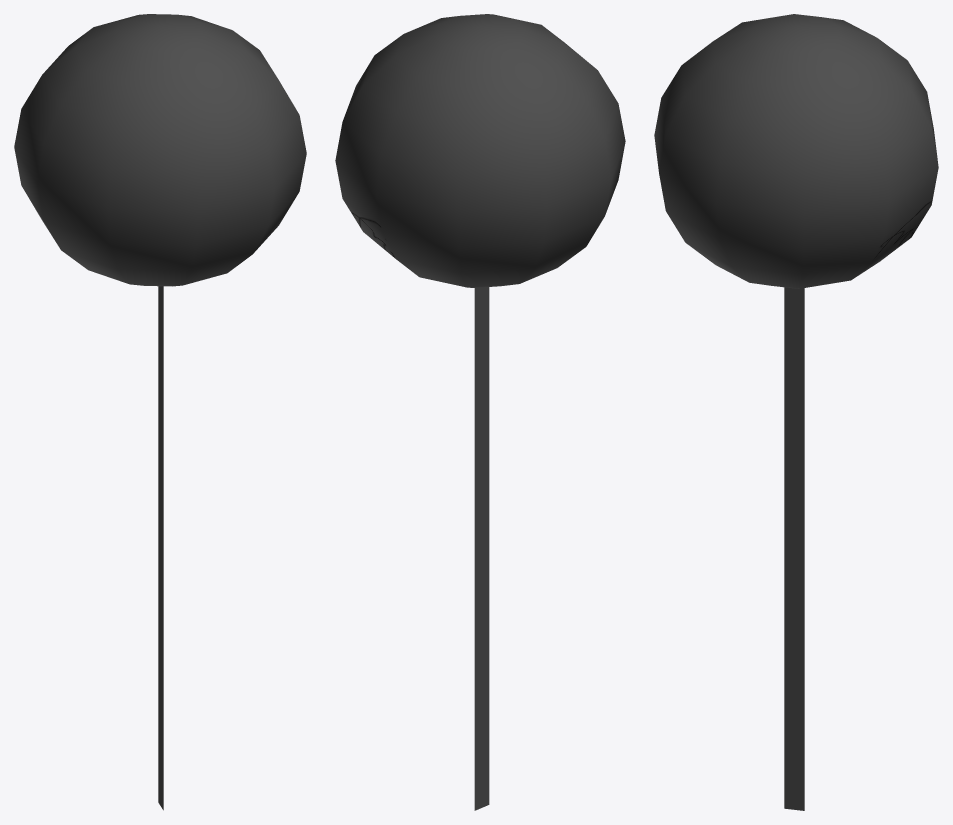
The model's file is SM_Balloon.fbx.
3 renders of one model, left to right at view 1: azimuth 30°, elevation 25°; view 2: azimuth 150°, elevation 25°; view 3: azimuth 270°, elevation 25°, orthographic.
Visible parts, largest first — view 1: SM_Balloon; view 2: SM_Balloon; view 3: SM_Balloon.
Boxes of the visible parts, box(x1,y1,x2,y2) form: SM_Balloon: box(14, 14, 306, 810); SM_Balloon: box(335, 14, 625, 810); SM_Balloon: box(654, 14, 938, 810).
Size of the model in its own units: 72.47 by 213 by 70.1.
